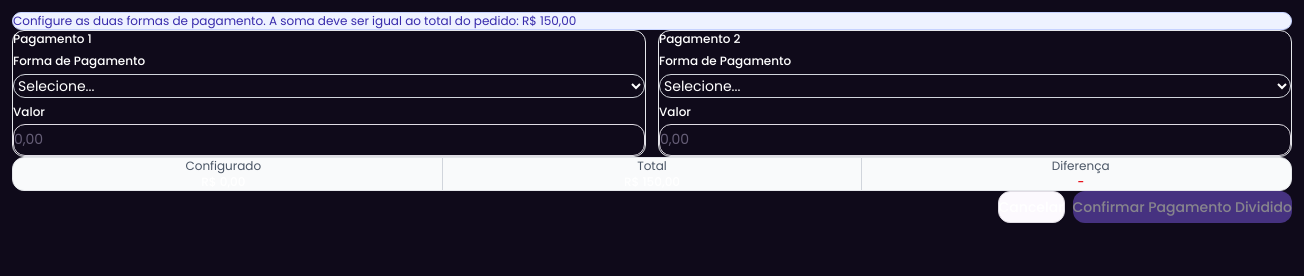
Test case: PagamentoDividido Component › should show error when selecting duplicate payment types
Select "PIX" in the dropdown labelled "Forma de Pagamento" below "Pagamento 1" at (329,86), box [13,74,645,98]
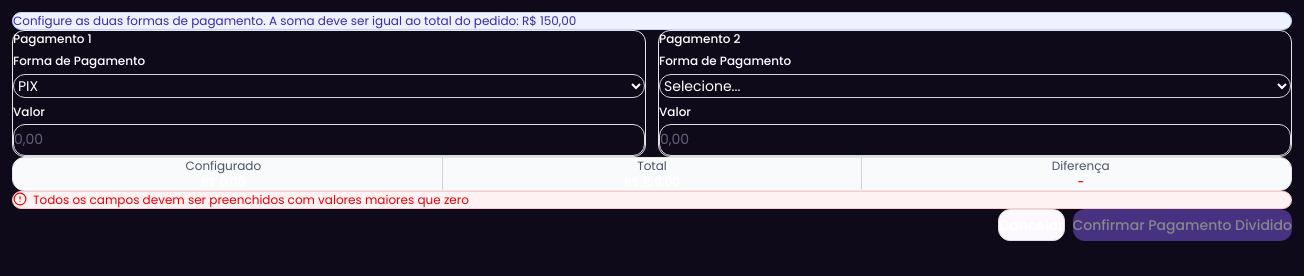
Select "PIX" in the dropdown labelled "Forma de Pagamento" below "Pagamento 2" at (975,86), box [659,74,1291,98]
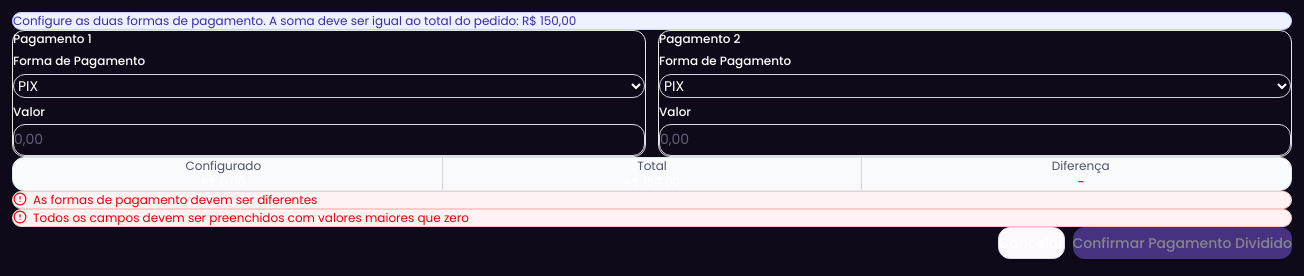
Result: the text "As formas de pagamento devem ser diferentes" is shown at [33,192,317,208]
